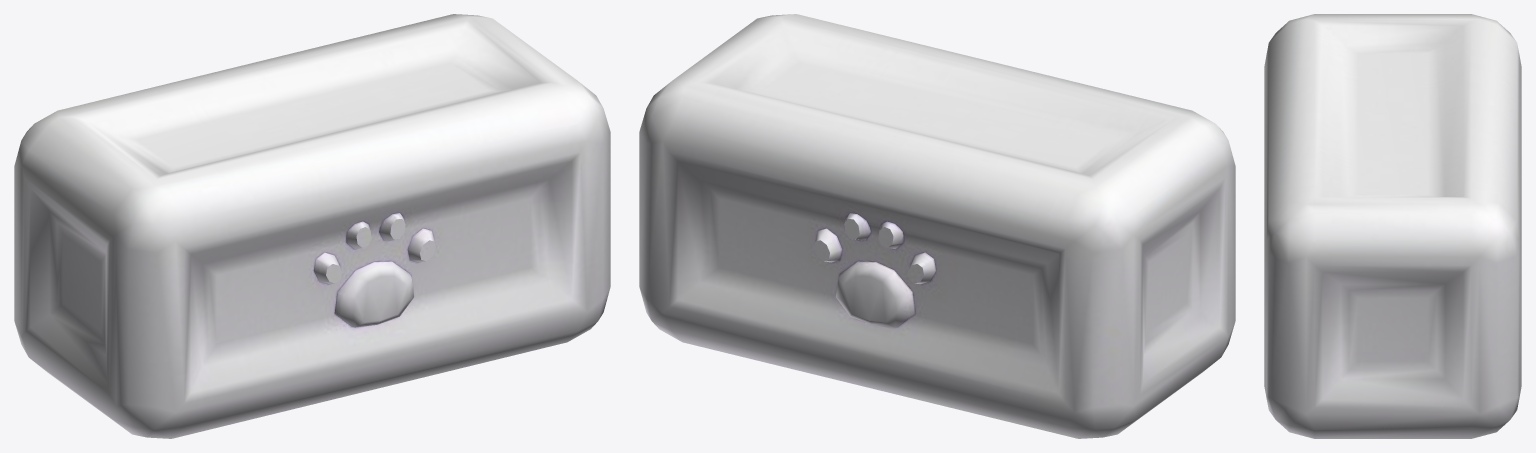
Rendered from cubuk2.glb.
3 views of the same model, side by side, from view 1: azimuth 30°, elevation 25°; view 2: azimuth 150°, elevation 25°; view 3: azimuth 270°, elevation 25° (orthographic). The views are drawn at different scales.
Parts seen in each view (by area): view 1: cubuk2; view 2: cubuk2; view 3: cubuk2.
Boxes of the visible parts, <box> form: cubuk2: <box>14,14,610,438</box>; cubuk2: <box>639,14,1235,438</box>; cubuk2: <box>1264,14,1521,438</box>.
Bounding box in the file's own units: 3.06 × 1.51 × 1.51.
Materials: 1 (1 with a texture image).
